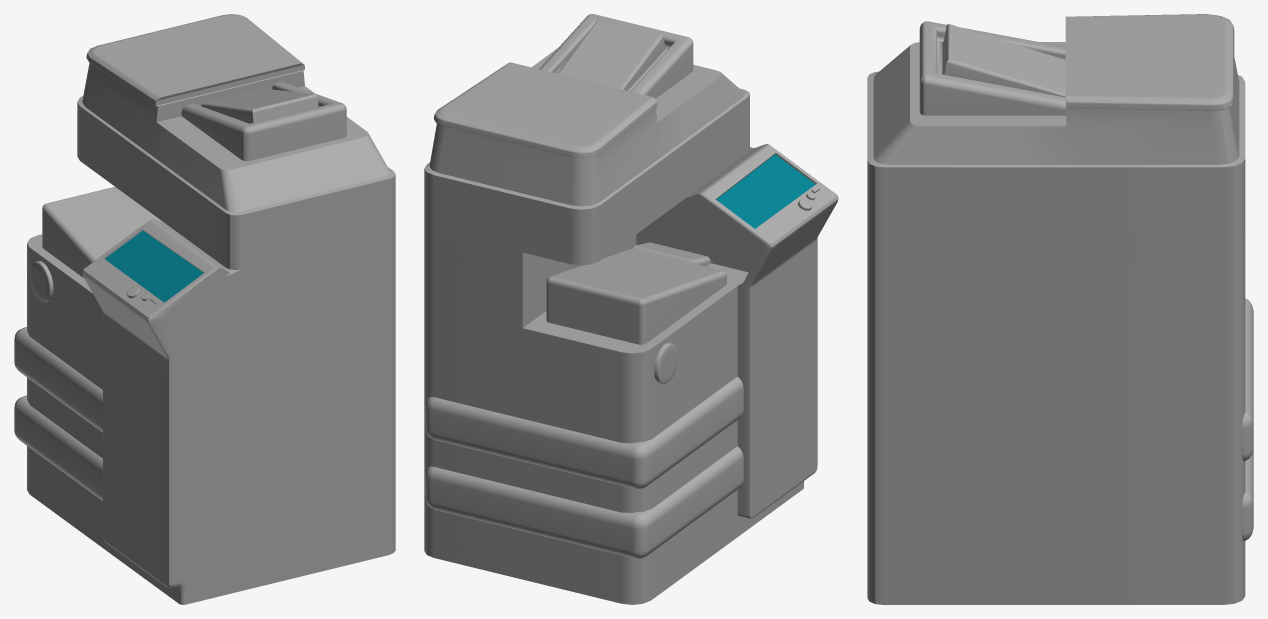
Rendered from General_CopyMachine.fbx.
3 renders of one model, left to right at view 1: azimuth 30°, elevation 25°; view 2: azimuth 150°, elevation 25°; view 3: azimuth 270°, elevation 25°, orthographic. The views are drawn at different scales.
Parts seen in each view (by area): view 1: Kopiator, PappersfackTopp, PappersfackCenter, pCube2, pCube1, pCylinder1; view 2: Kopiator, pCube1, pCube2, PappersfackCenter, PappersfackTopp, pCylinder1; view 3: Kopiator, PappersfackTopp, pCube1, pCube2.
Boxes of the visible parts, <box> form: Kopiator: <box>27,14,395,604</box>; PappersfackTopp: <box>181,82,346,161</box>; PappersfackCenter: <box>42,187,163,277</box>; pCube2: <box>14,395,102,500</box>; pCube1: <box>14,327,102,432</box>; pCylinder1: <box>30,261,53,301</box>; Kopiator: <box>424,48,838,604</box>; pCube1: <box>425,376,743,489</box>; pCube2: <box>425,446,743,558</box>; PappersfackCenter: <box>546,242,726,344</box>; PappersfackTopp: <box>539,14,693,98</box>; pCylinder1: <box>654,342,678,384</box>; Kopiator: <box>867,14,1245,604</box>; PappersfackTopp: <box>919,21,1066,115</box>; pCube1: <box>1241,298,1253,461</box>; pCube2: <box>1241,449,1253,541</box>.
Bounding box in the file's own units: 564 × 948 × 641.
